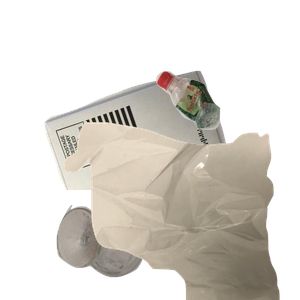glass: (54, 202, 193, 300)
paper: (42, 68, 275, 248)
plastic: (153, 68, 300, 190)
trash: (61, 120, 300, 300)
